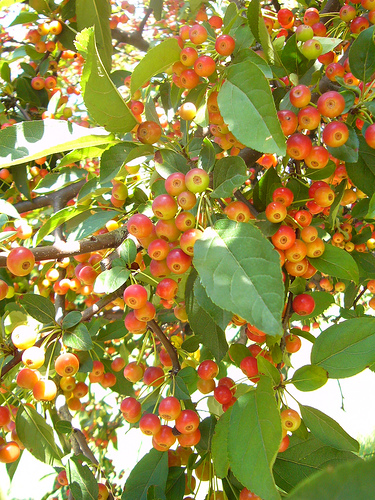apple: (119, 283, 152, 309), (149, 194, 179, 222), (263, 202, 289, 223)
